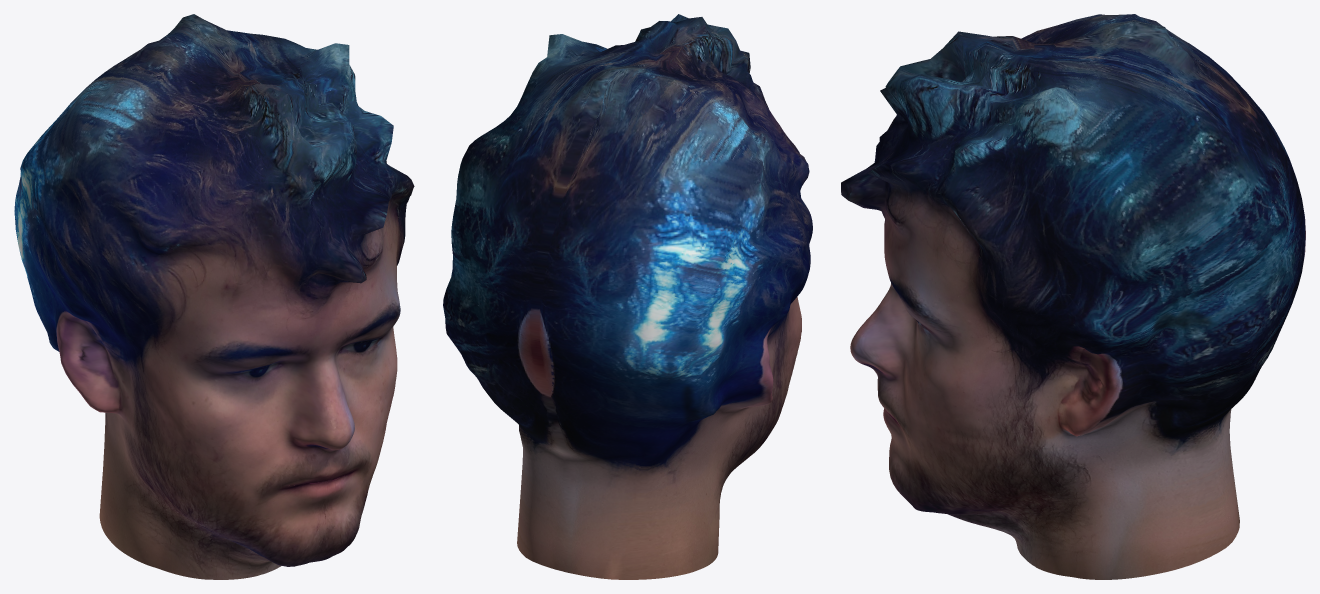
The model's file is JaredC.obj.
3 views of the same model, side by side, from view 1: azimuth 30°, elevation 25°; view 2: azimuth 150°, elevation 25°; view 3: azimuth 270°, elevation 25° (orthographic). The views are drawn at different scales.
Visible parts, largest first — view 1: texture_group_0; view 2: texture_group_0; view 3: texture_group_0.
Boxes of the visible parts, x1,y1,x2,y2 form: texture_group_0: (14, 14, 414, 579); texture_group_0: (443, 14, 812, 579); texture_group_0: (841, 14, 1305, 579).
Size of the model in its own units: 210 by 299 by 242.
